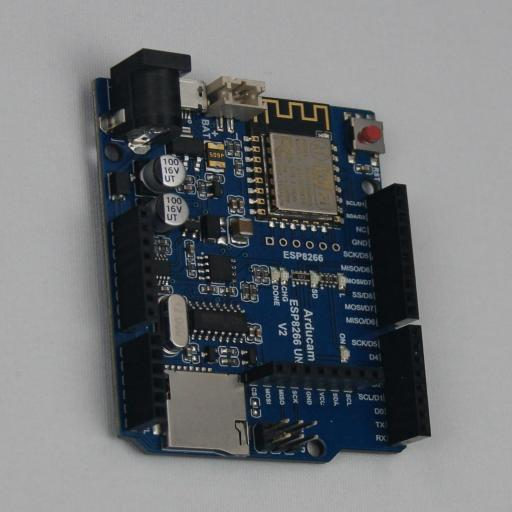Arduino Uno Camera Shield: (84, 48, 431, 464)
